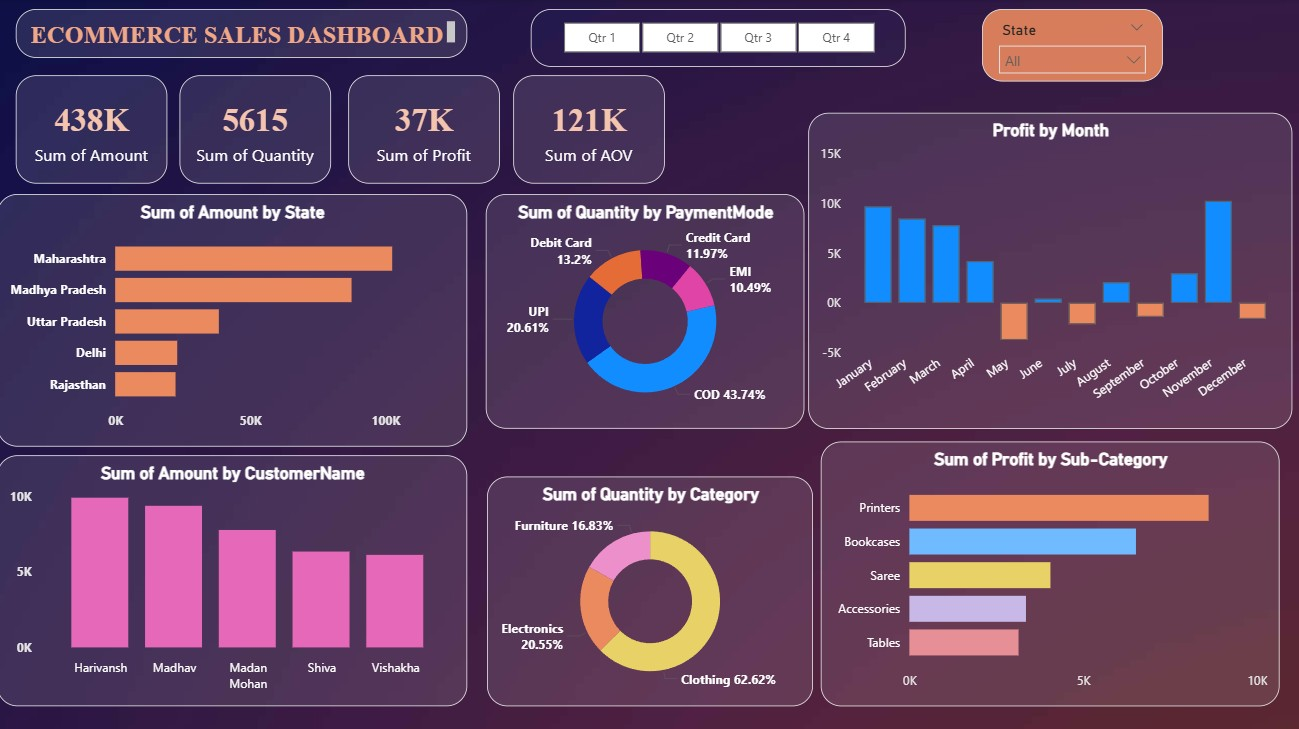

Layout of this report page (visuals, bound fields, positions):
{"tool":"powerbi","page":{"name":"Page 1","canvas":[1280,720],"ordinal":0},"visuals":[{"type":"textbox","box":[17.8,9.6,443.2,48],"z":0},{"type":"columnChart","title":"Profit by Month","fields":{"Y":["Sum(Details.Profit)"],"Category":["Orders.Order Date.Variation.Date Hierarchy.Month"]},"box":[796.3,111.7,474.8,310.4],"z":1000},{"type":"barChart","fields":{"Category":["Details.Sub-Category"],"Y":["Sum(Details.Profit)"]},"box":[808.6,434.4,450.3,260.1],"z":2000},{"type":"donutChart","fields":{"Category":["Details.Category"],"Y":["Sum(Details.Quantity)"]},"box":[481,468.7,320.2,225.8],"z":3000},{"type":"donutChart","fields":{"Category":["Details.PaymentMode"],"Y":["Sum(Details.Quantity)"]},"box":[479.8,191.4,312.9,230.7],"z":4000},{"type":"card","fields":{"Values":["Sum(Details.Amount)"]},"box":[18.4,74.8,148.5,106.7],"z":5000},{"type":"card","fields":{"Values":["Sum(Details.Quantity)"]},"box":[179.1,74.8,148.5,106.7],"z":6000},{"type":"card","fields":{"Values":["Sum(Details.Profit)"]},"box":[344.8,74.8,148.5,106.7],"z":7000},{"type":"card","fields":{"Values":["Sum(Details.AOV)"]},"box":[506.8,74.8,148.5,106.7],"z":8000},{"type":"barChart","fields":{"Category":["Orders.State"],"Y":["Sum(Details.Amount)"]},"box":[0,191.4,461.4,247.9],"z":9000},{"type":"columnChart","fields":{"Y":["Sum(Details.Amount)"],"Category":["Orders.CustomerName"]},"box":[0,447.9,461.4,246.6],"z":10000},{"type":"slicer","fields":{"Values":["Orders.Order Date.Variation.Date Hierarchy.Quarter"]},"box":[523.9,9.8,368.1,56.4],"z":11000},{"type":"slicer","fields":{"Values":["Orders.State"]},"box":[966.9,9.8,177.9,71.2],"z":12000}]}

Visuals, with their boxes in screenshot pixels (x1, y1, x2, y2), scaled from the page's 1280x720 canvas onto the 1299x729 screenshot:
textbox: {"x1": 18, "y1": 10, "x2": 468, "y2": 58}
"Profit by Month" columnChart: {"x1": 808, "y1": 113, "x2": 1290, "y2": 427}
barChart - Details.Sub-Category x Sum(Details.Profit): {"x1": 821, "y1": 440, "x2": 1278, "y2": 703}
donutChart - Details.Category x Sum(Details.Quantity): {"x1": 488, "y1": 475, "x2": 813, "y2": 703}
donutChart - Details.PaymentMode x Sum(Details.Quantity): {"x1": 487, "y1": 194, "x2": 804, "y2": 427}
card - Sum(Details.Amount): {"x1": 19, "y1": 76, "x2": 169, "y2": 184}
card - Sum(Details.Quantity): {"x1": 182, "y1": 76, "x2": 332, "y2": 184}
card - Sum(Details.Profit): {"x1": 350, "y1": 76, "x2": 501, "y2": 184}
card - Sum(Details.AOV): {"x1": 514, "y1": 76, "x2": 665, "y2": 184}
barChart - Orders.State x Sum(Details.Amount): {"x1": 0, "y1": 194, "x2": 468, "y2": 445}
columnChart - Sum(Details.Amount) x Orders.CustomerName: {"x1": 0, "y1": 453, "x2": 468, "y2": 703}
slicer - Orders.Order Date.Variation.Date Hierarchy.Quarter: {"x1": 532, "y1": 10, "x2": 905, "y2": 67}
slicer - Orders.State: {"x1": 981, "y1": 10, "x2": 1162, "y2": 82}
